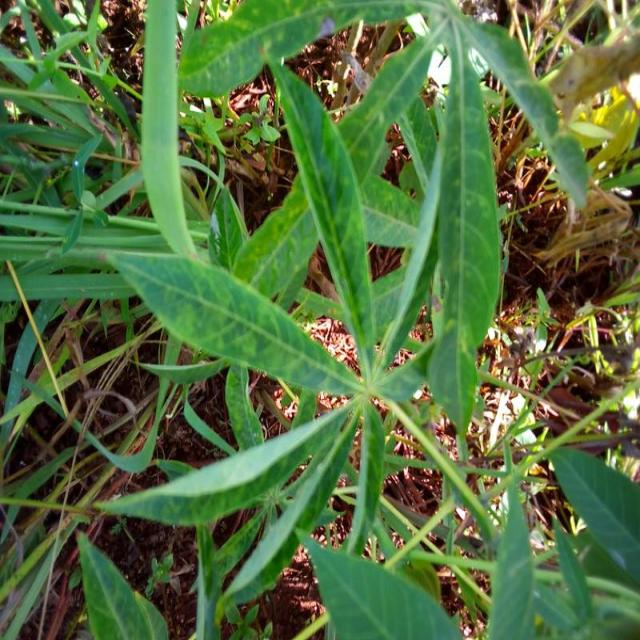cassava leaf: (105, 246, 364, 398), (426, 9, 504, 434)
